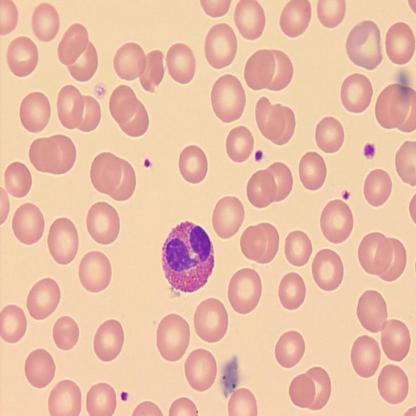Eosinophil: (162, 221, 212, 294)
